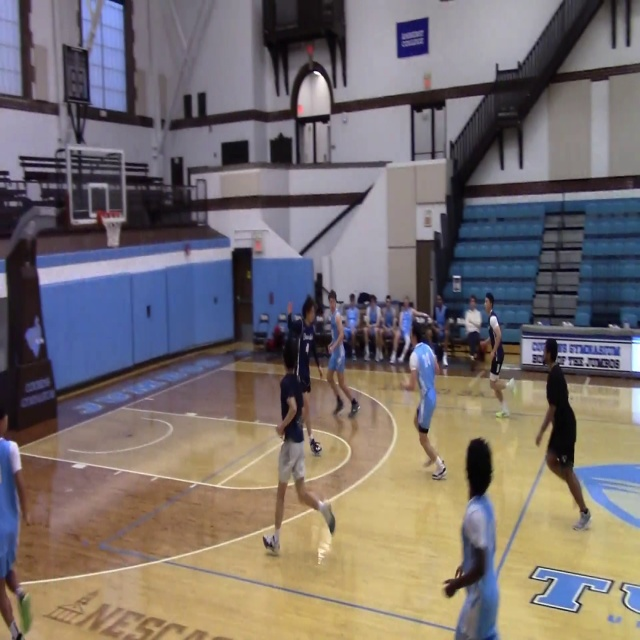Basketball: (545, 452, 561, 473), (478, 340, 492, 354)
